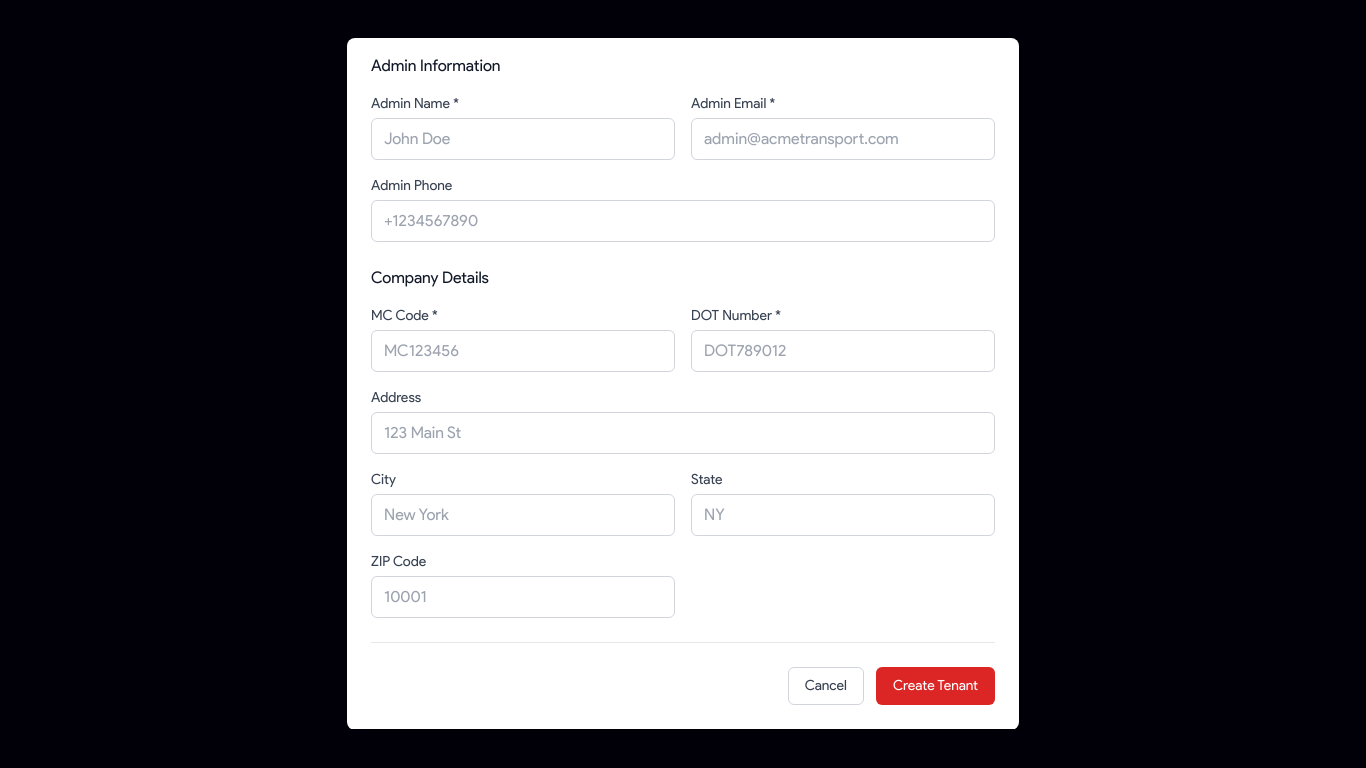
Test: TenantCreateModal › shows validation errors for required fields
(page scrolled)
# Try to submit without filling required fields
What coordinates should you click on to do the following:
click the button "Create Tenant"
I would click on:
 (936, 686)
Its box is [876,667,995,705].
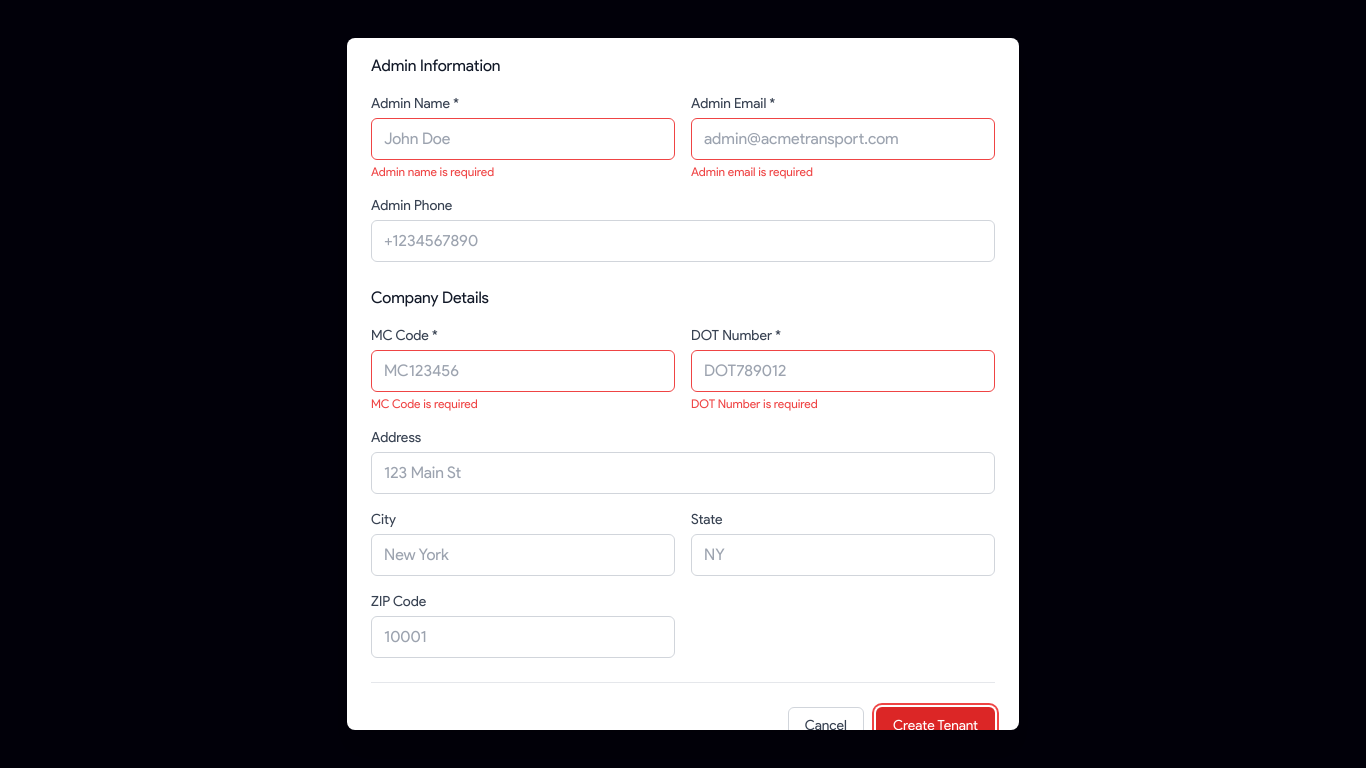
Now the text "Admin name is required" is shown, box [371,164,494,179]
Now the text "Admin email is required" is shown, box [691,164,813,179]
